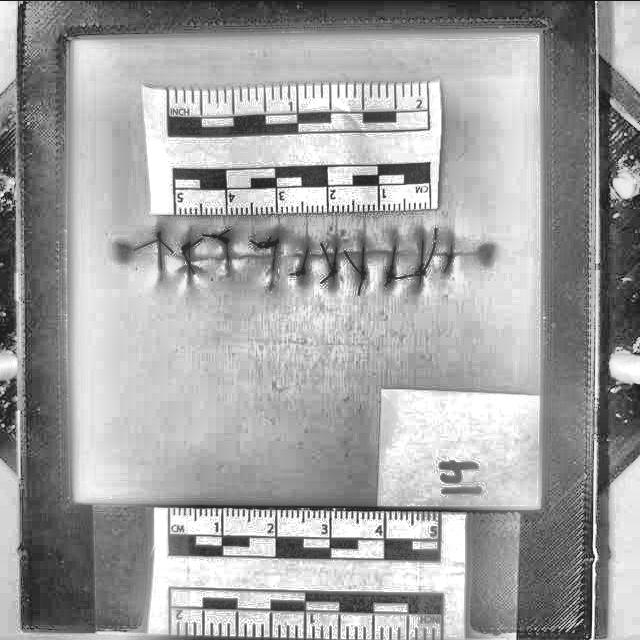incision_line: (129, 252, 485, 259)
scale_marker: (327, 192, 379, 212)
suture_d: (188, 250, 228, 258), (228, 254, 274, 258), (160, 258, 190, 264), (362, 252, 394, 256), (422, 246, 452, 250), (308, 248, 336, 252), (336, 249, 364, 253), (274, 260, 304, 262), (394, 248, 422, 250)
suture_l: (390, 254, 396, 270), (301, 256, 308, 269), (188, 255, 193, 273), (272, 255, 278, 270), (333, 254, 338, 270), (158, 254, 162, 268), (362, 255, 364, 272), (226, 253, 230, 261), (422, 253, 424, 264), (449, 252, 454, 256)
suture_r: (272, 242, 278, 255), (158, 235, 162, 252), (187, 242, 192, 255), (226, 240, 230, 253), (421, 240, 424, 252), (334, 247, 338, 255), (392, 246, 396, 254), (304, 250, 308, 256), (450, 243, 453, 251), (362, 248, 364, 255)
